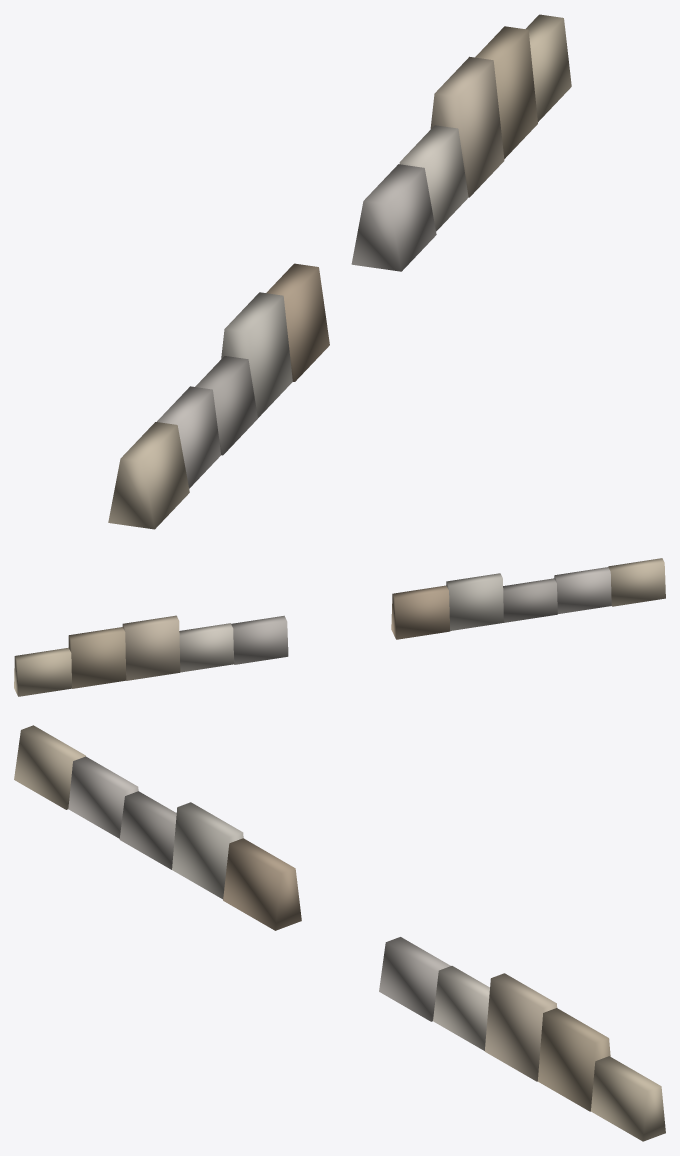
The model's file is farm_-33_-25_collision.glb.
3 renders of one model, top to bottom at view 1: azimuth 30°, elevation 25°; view 2: azimuth 150°, elevation 25°; view 3: azimuth 270°, elevation 25°, orthographic. The views are drawn at different scales.
Parts seen in each view (by area): view 1: geometry_0; view 2: geometry_0; view 3: geometry_0.
Part boxes in pixels (x1,y1,x2,y2): geometry_0: [108, 14, 571, 529]; geometry_0: [14, 558, 665, 696]; geometry_0: [14, 725, 665, 1141].
Bounding box in the file's own units: 14.39 × 2.38 × 12.82.
